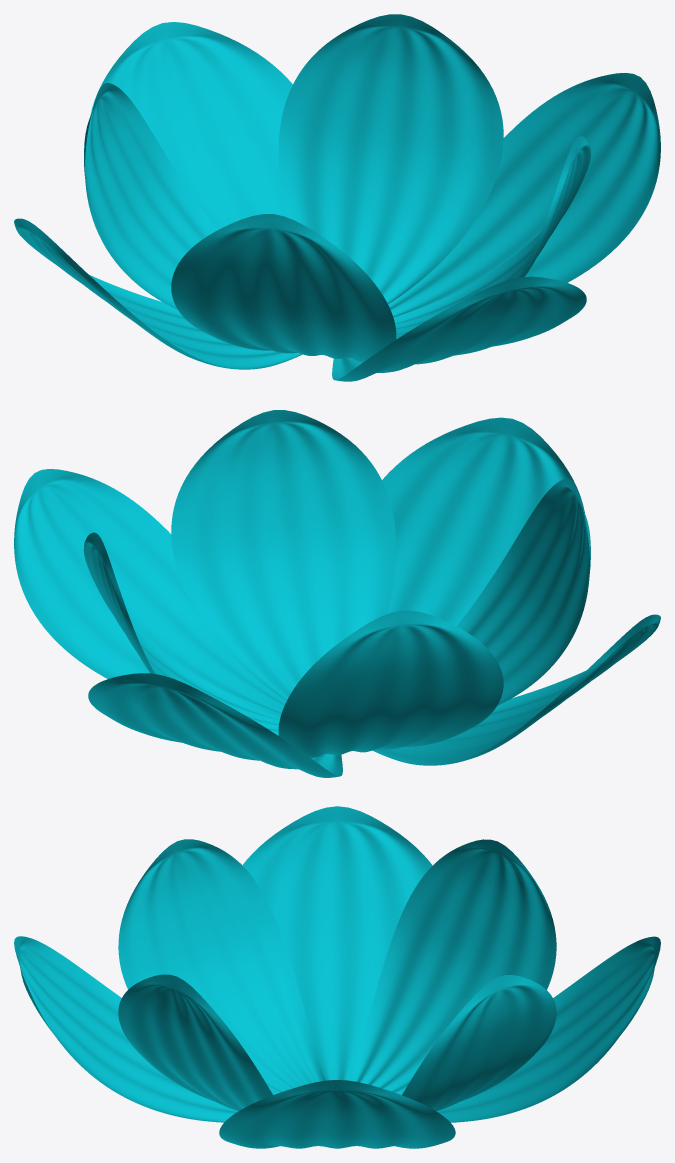
Rendered from lotus.fbx.
3 views of the same model, one above another, from view 1: azimuth 30°, elevation 25°; view 2: azimuth 150°, elevation 25°; view 3: azimuth 270°, elevation 25° (orthographic). The views are drawn at different scales.
Visible parts, largest first — view 1: BezierCurve.000; view 2: BezierCurve.000; view 3: BezierCurve.000.
Part boxes in pixels (<box>): BezierCurve.000: <box>14,14,660,381</box>; BezierCurve.000: <box>14,410,660,777</box>; BezierCurve.000: <box>14,806,660,1148</box>.
Bounding box in the file's own units: 2.84 × 0.9909 × 2.84.
